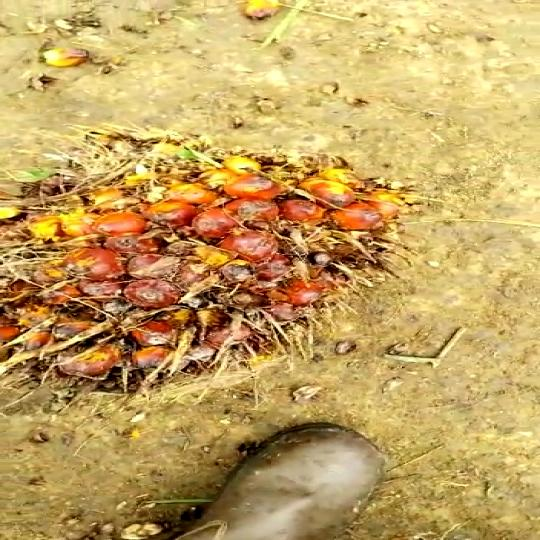masak: (0, 130, 431, 426)
